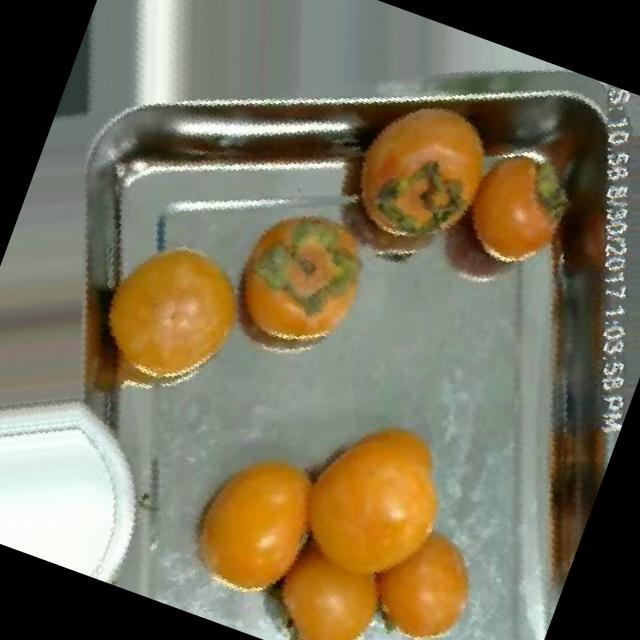Fruit: (245, 373, 485, 612), (189, 158, 413, 398), (55, 200, 281, 427), (151, 413, 359, 635), (337, 500, 505, 640), (45, 0, 142, 156)
